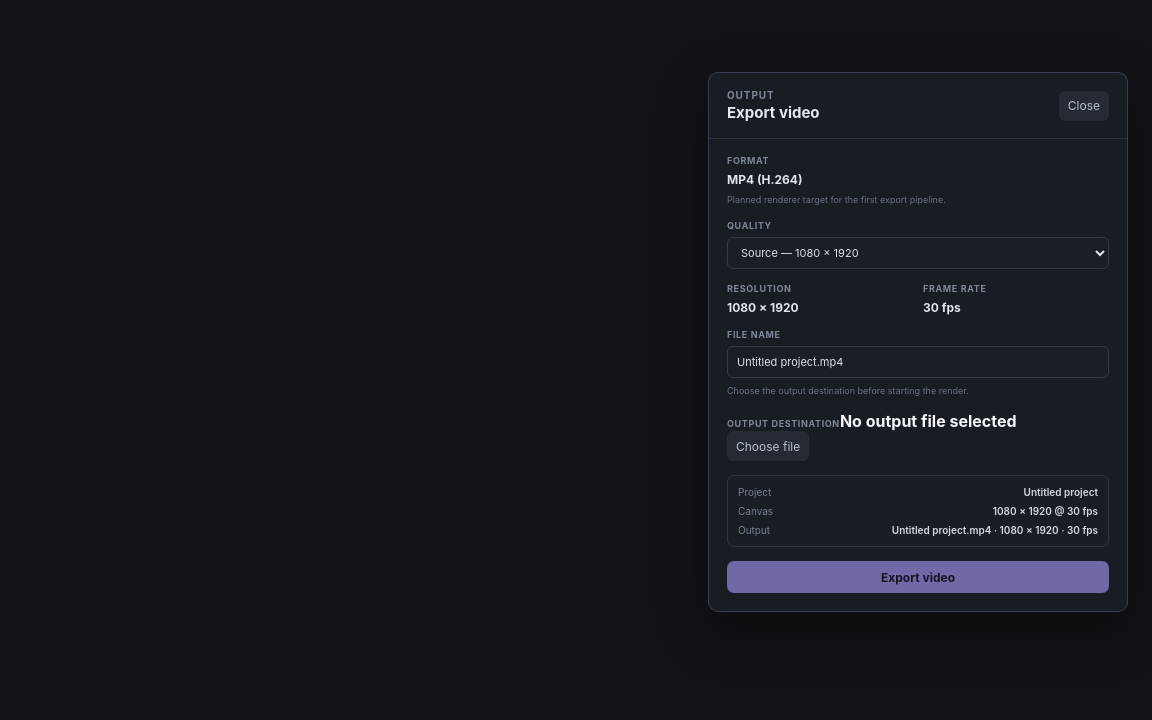
Test: ExportPanel › lets the user choose and displays an output destination
The image size is (1152, 720).
Step 1. Click the button named "Choose export destination" → (768, 446), box x1=727 y1=431 x2=809 y2=461
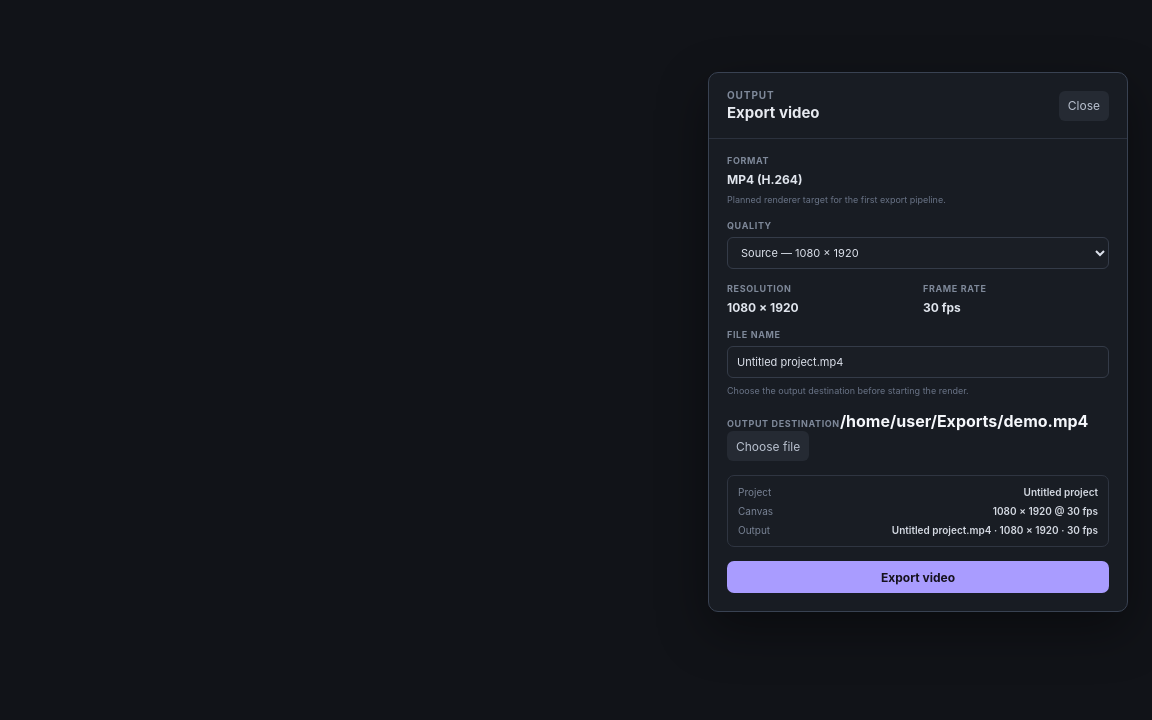
Now the text "/home/user/Exports/demo.mp4" is shown, box x1=840 y1=411 x2=1088 y2=431
